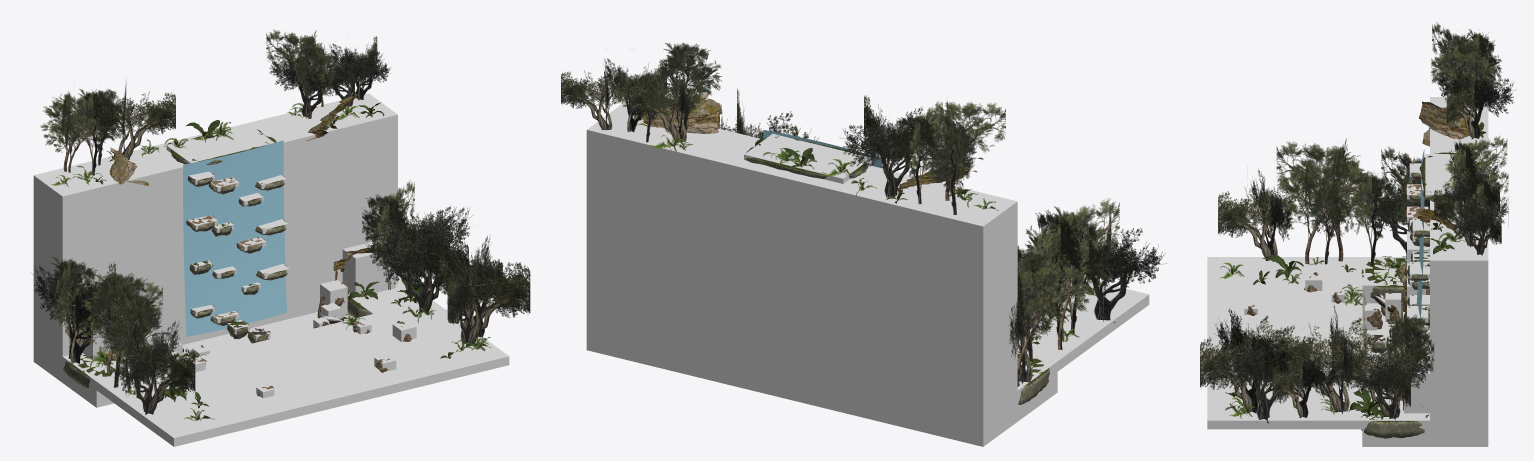
The model's file is level.glb.
3 renders of one model, left to right at view 1: azimuth 30°, elevation 25°; view 2: azimuth 150°, elevation 25°; view 3: azimuth 270°, elevation 25°, orthographic. The views are drawn at different scales.
Visible parts, largest first — view 1: Cliff_Main_COL, Shore_COL, Waterfall_Sheet, Tree_24, Tree_21, Tree_10, Tree_08, Tree_11, Tree_23, Tree_16, Tree_12, Tree_04 (+21 smaller); view 2: Cliff_Main_COL, Tree_12, Shore_COL, Tree_04, Tree_10, Tree_06, Tree_13, Summit_COL, Tree_05, Tree_16, Tree_01, Tree_15 (+13 smaller); view 3: Shore_COL, Cliff_Main_COL, Tree_24, Tree_21, Tree_10, Tree_12, Tree_11, Tree_04, Tree_23, Tree_19, Tree_20, Tree_22 (+26 smaller).
Boxes of the visible parts, x1,y1,x2,y2 form: Cliff_Main_COL: (33, 93, 397, 382); Shore_COL: (96, 300, 509, 446); Waterfall_Sheet: (183, 140, 286, 336); Tree_24: (406, 235, 530, 345); Tree_21: (377, 207, 472, 313); Tree_10: (117, 321, 195, 418); Tree_08: (31, 262, 115, 366); Tree_11: (101, 286, 168, 397); Tree_23: (426, 243, 530, 337); Tree_16: (266, 29, 333, 118); Tree_12: (80, 272, 159, 387); Tree_04: (108, 83, 175, 159); Cliff_Main_COL: (586, 104, 1017, 446); Tree_12: (1025, 198, 1119, 349); Shore_COL: (1017, 267, 1149, 371); Tree_04: (839, 95, 932, 197); Tree_10: (1068, 206, 1166, 322); Tree_06: (1017, 264, 1084, 386); Tree_13: (629, 69, 706, 143); Summit_COL: (744, 133, 871, 183); Tree_05: (921, 109, 983, 214); Tree_16: (654, 42, 721, 135); Tree_01: (917, 101, 1005, 200); Tree_15: (561, 63, 627, 130); Shore_COL: (1207, 257, 1362, 429); Cliff_Main_COL: (1430, 97, 1488, 446); Tree_24: (1200, 308, 1292, 413); Tree_21: (1275, 305, 1374, 414); Tree_10: (1218, 168, 1297, 261); Tree_12: (1276, 138, 1375, 261); Tree_11: (1276, 157, 1367, 264); Tree_04: (1436, 61, 1516, 139); Tree_23: (1212, 315, 1307, 423); Tree_19: (1351, 347, 1429, 419); Tree_20: (1332, 329, 1415, 416); Tree_22: (1272, 348, 1340, 417).
Size of the model in its own units: 50.74 by 31.97 by 33.05.
16 materials, 15 textured.
